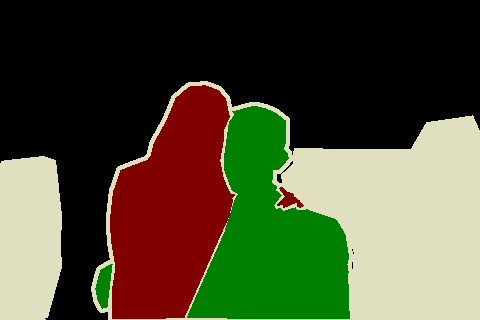person: (95, 107, 350, 320), (112, 86, 308, 320)
